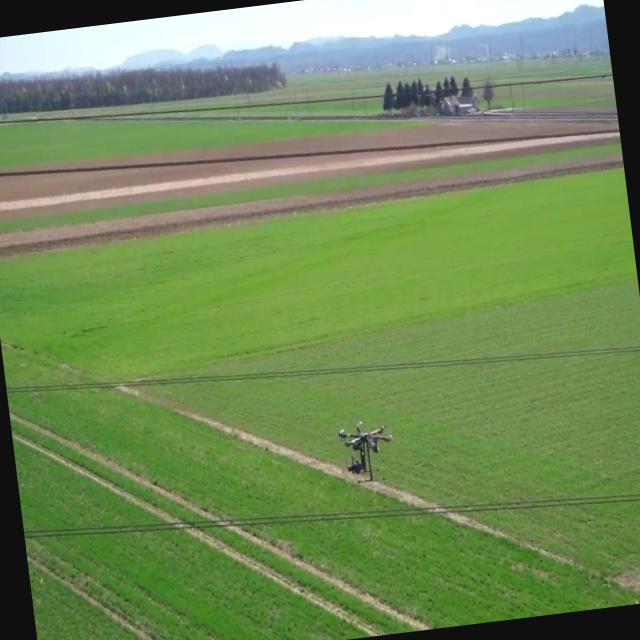drone: (337, 412, 400, 490)
